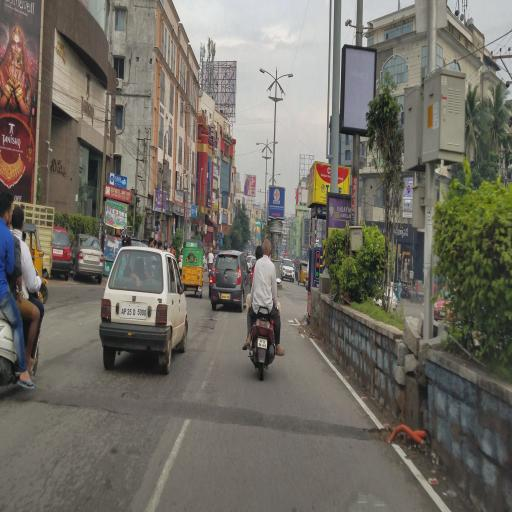street_light_0: (275, 66, 299, 97), (255, 61, 278, 91), (250, 135, 266, 159), (266, 136, 282, 154), (272, 168, 282, 186), (260, 167, 270, 183)
